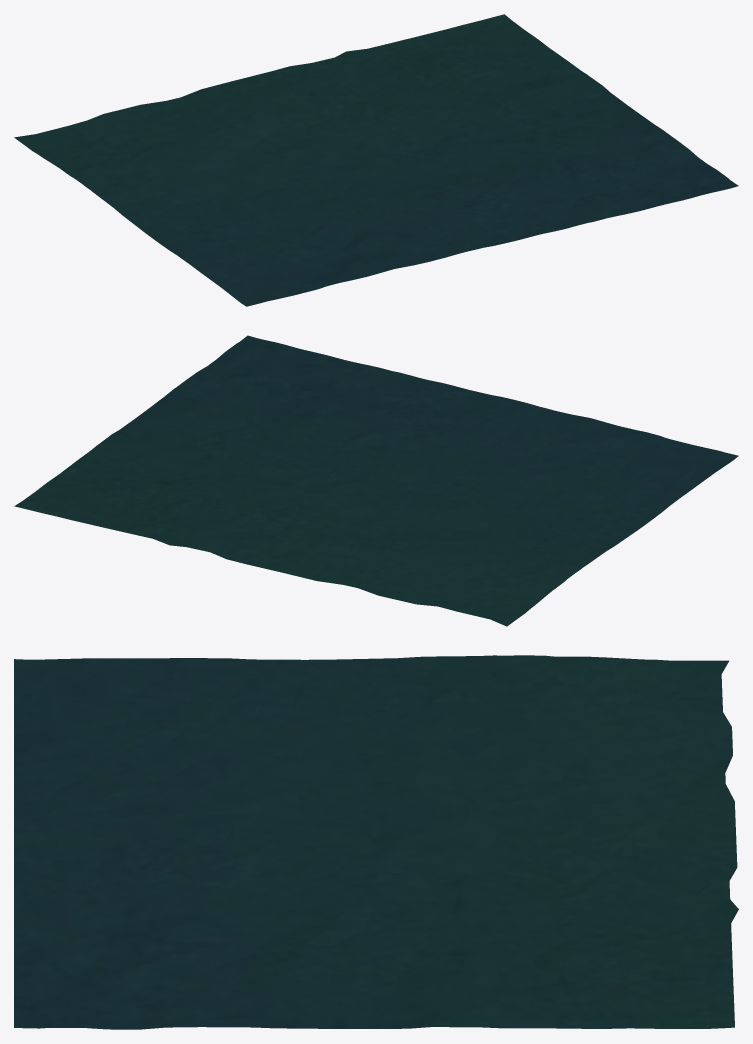
3 renders of one model, top to bottom at view 1: azimuth 30°, elevation 25°; view 2: azimuth 150°, elevation 25°; view 3: azimuth 270°, elevation 25°, orthographic. The views are drawn at different scales.
Bounding box in the file's own units: 104 × 0.8402 × 86.56.
2 materials, 2 textured.
